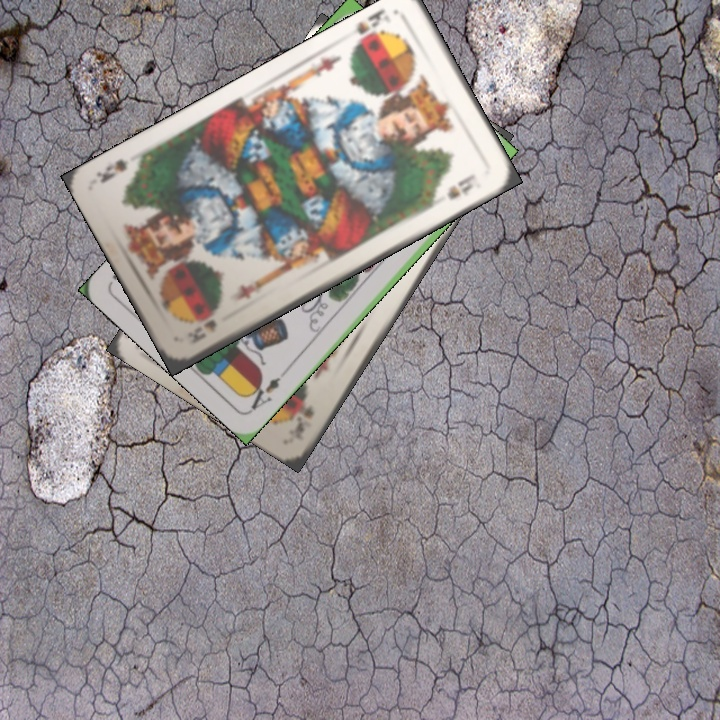EA: (242, 366, 290, 413)
SK: (352, 5, 388, 38), (186, 315, 219, 347), (293, 399, 317, 436)
